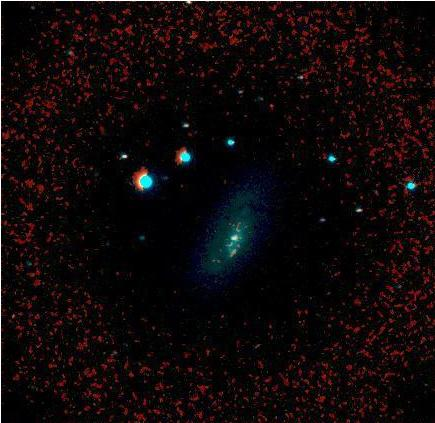star: (256, 92, 286, 122)
